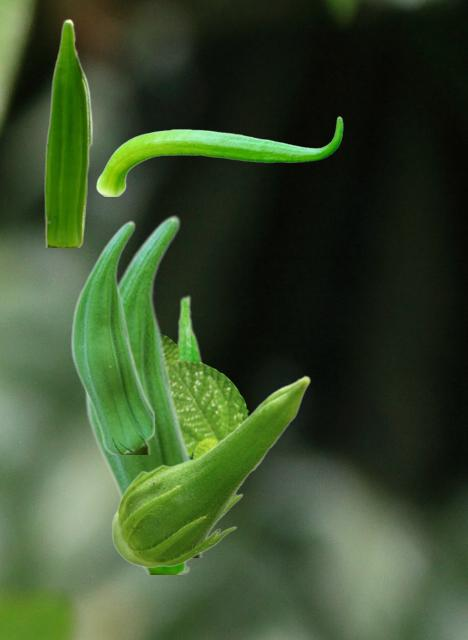okra: (84, 213, 204, 556), (111, 375, 310, 567), (96, 116, 342, 195), (70, 220, 153, 453), (142, 294, 205, 573), (44, 18, 92, 246)
